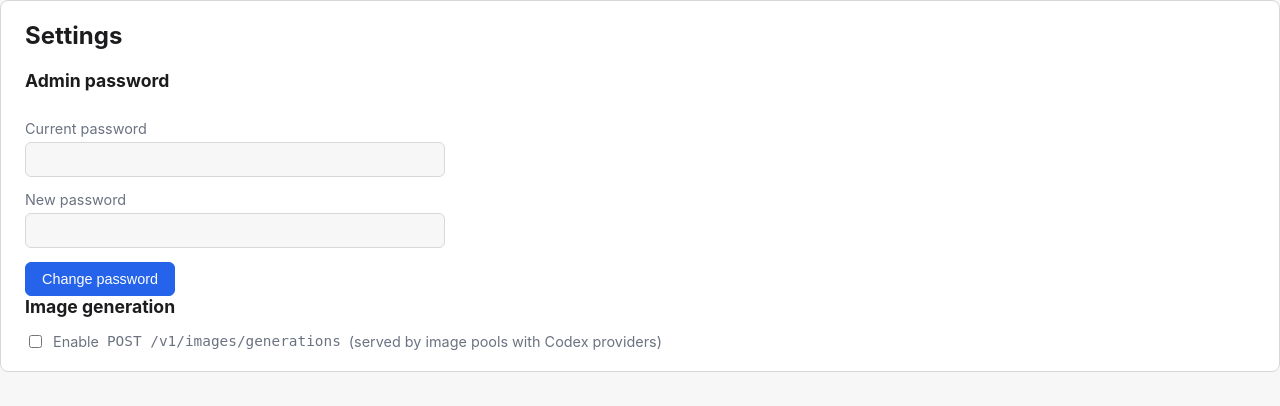
Settings image toggle › loads_and_toggles_images_enabled
Click the checkbox labelled "images/generations" at (36, 341), box top-left (29, 335), bottom-right (42, 348)
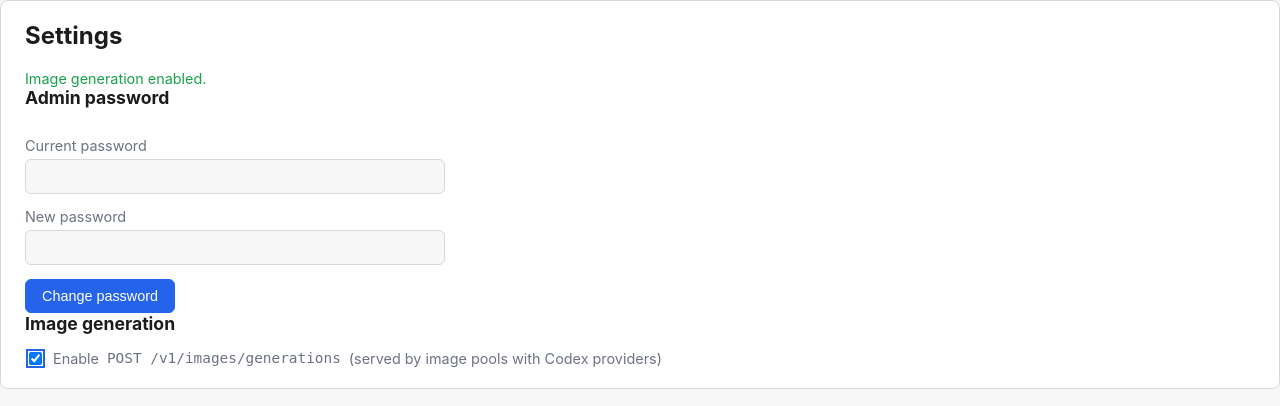
expect the checkbox labelled "images/generations" is checked: met, box top-left (29, 352), bottom-right (42, 365)
expect the message reads "Image generation enabled.": met, box top-left (25, 70), bottom-right (206, 87)
